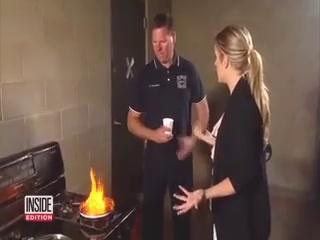Fire: (79, 166, 117, 217)
